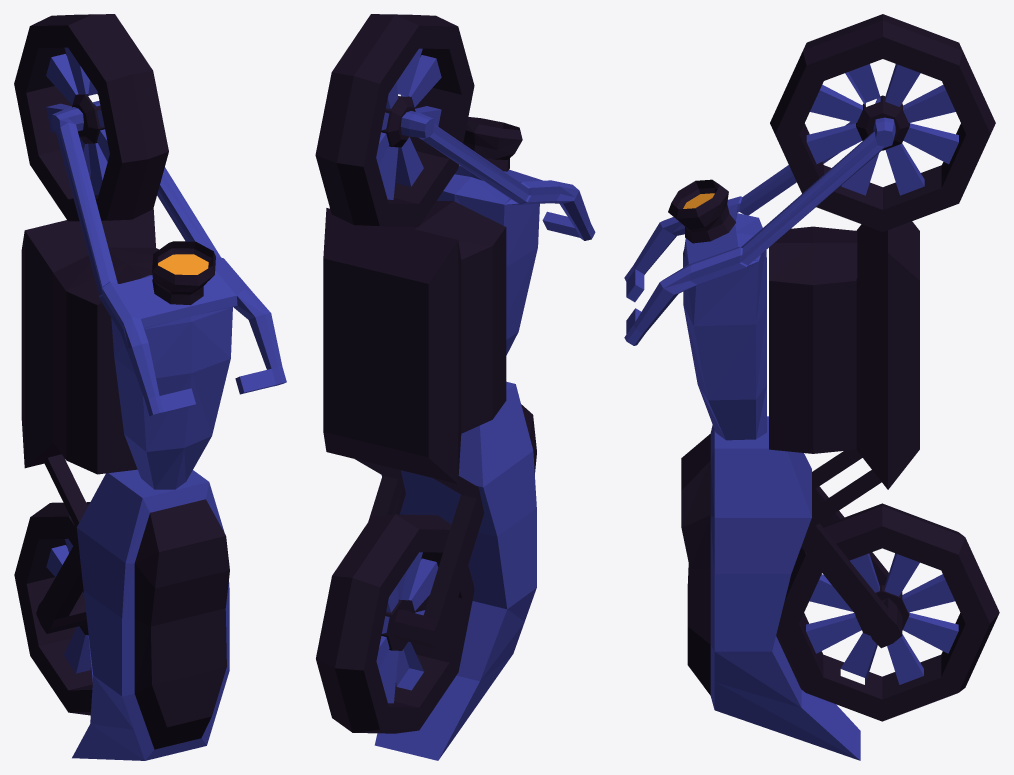
The picture shows the model from 3 angles, left to right: view 1: azimuth 30°, elevation 25°; view 2: azimuth 150°, elevation 25°; view 3: azimuth 270°, elevation 25°; orthographic projection. The views are drawn at different scales.
Visible parts, largest first — view 1: part_0, part_1, part_2; view 2: part_0, part_1; view 3: part_0, part_1.
Boxes of the visible parts, x1=… form: part_0: x1=14, y1=14, x2=229, y2=749; part_1: x1=46, y1=47, x2=286, y2=760; part_2: x1=158, y1=254, x2=208, y2=274; part_0: x1=315, y1=14, x2=536, y2=733; part_1: x1=374, y1=48, x2=595, y2=760; part_0: x1=668, y1=14, x2=999, y2=721; part_1: x1=624, y1=64, x2=958, y2=760.
Size of the model in its own units: 0.4694 by 2.34 by 1.1.
